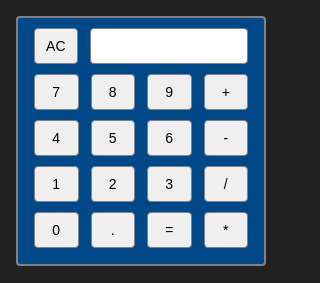
it: Calculator › Should show 7 in display when click button 7
This screenshot has width=320, height=283.
What coordinates should you click on to do the following:
click the button with test id "btn-7"
I would click on:
 (56, 92)
Its box is [34,74,78,110].
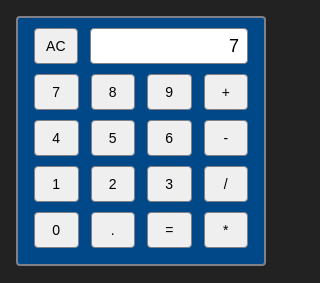
Result: the text with test id "display" reads "7" at [229,36,239,56]
